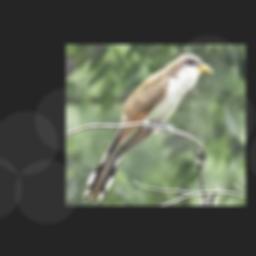Cuckoo: (83, 54, 212, 202)
